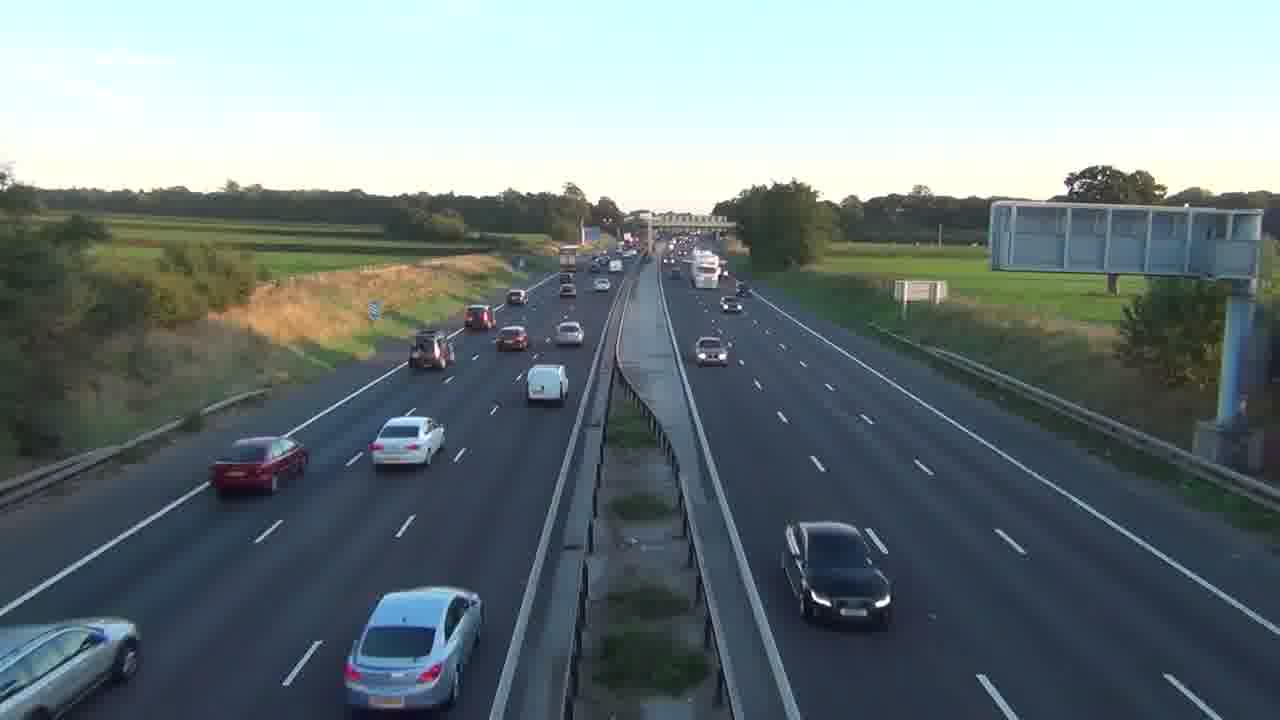car: (341, 585, 484, 714), (0, 616, 143, 718), (781, 519, 895, 630), (208, 435, 309, 496), (368, 413, 447, 469), (526, 364, 568, 406), (695, 336, 728, 368), (552, 321, 584, 346), (560, 280, 576, 296)
